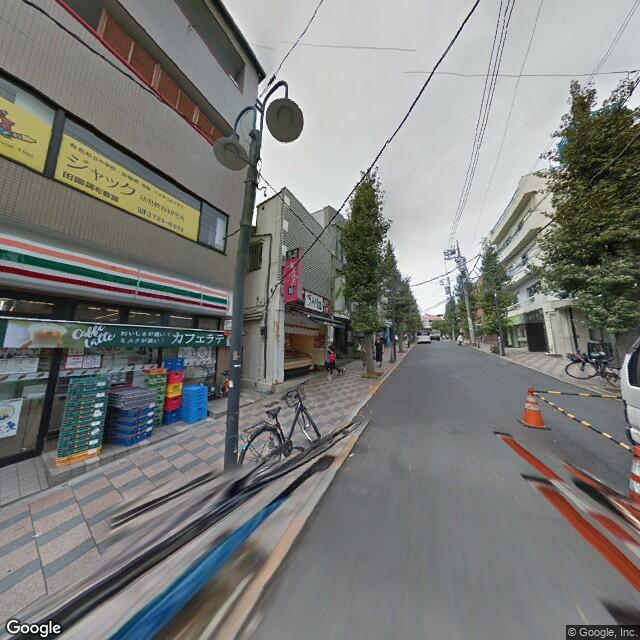7-eleven: (1, 231, 231, 321)
